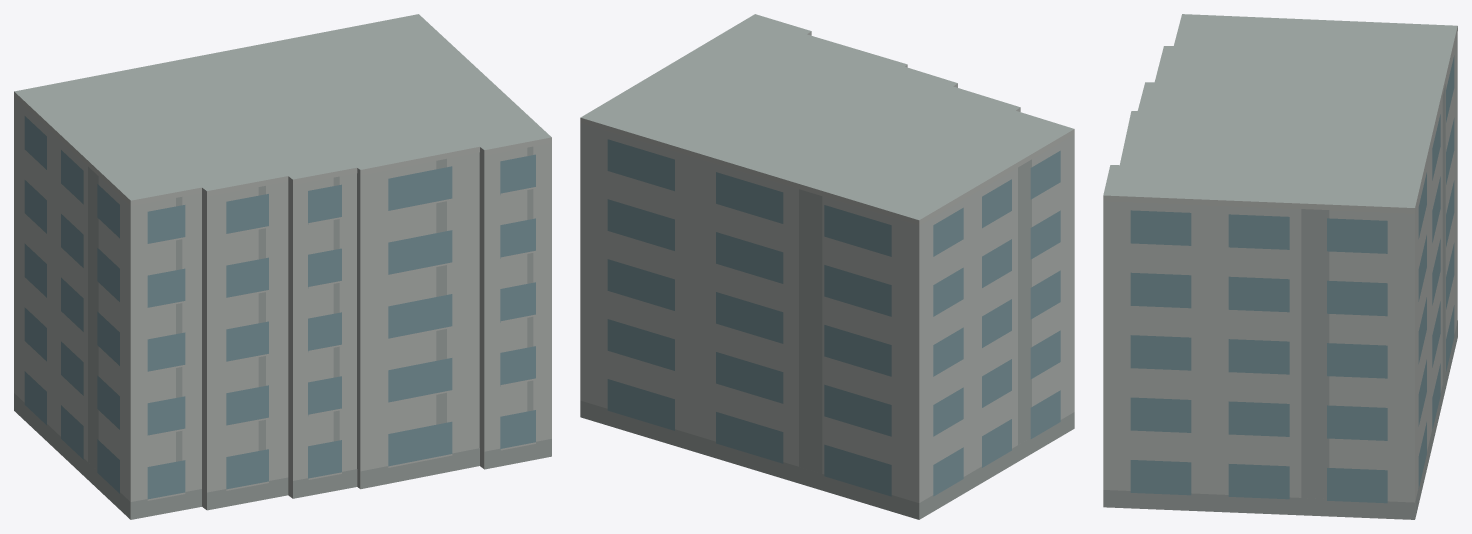
Rendered from survey-upis-32976914.glb.
The picture shows the model from 3 angles, left to right: view 1: azimuth 30°, elevation 25°; view 2: azimuth 150°, elevation 25°; view 3: azimuth 270°, elevation 25°; orthographic projection. The views are drawn at different scales.
Visible parts, largest first — view 1: survey-upis-32976914.tmp; view 2: survey-upis-32976914.tmp; view 3: survey-upis-32976914.tmp.
Part boxes in pixels (x1,y1,x2,y2): survey-upis-32976914.tmp: (14,14,551,519); survey-upis-32976914.tmp: (580,14,1074,519); survey-upis-32976914.tmp: (1103,14,1457,519).
Size of the model in its own units: 18.57 by 13.9 by 14.33.
